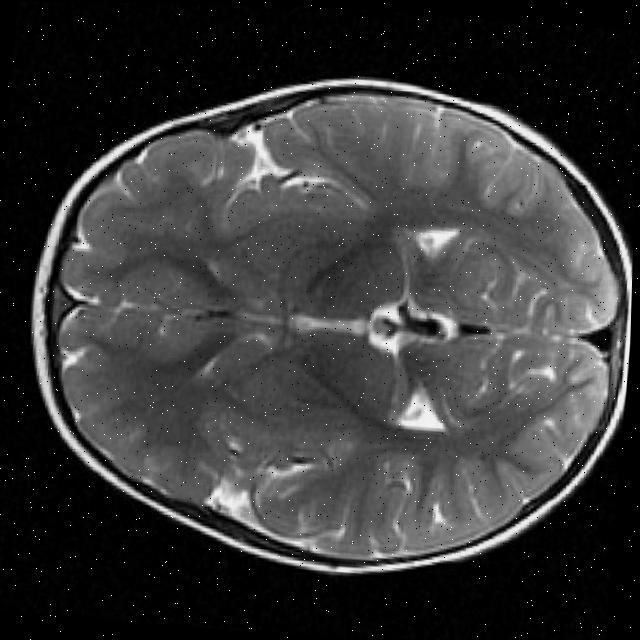NoTumor: (32, 62, 638, 581)
